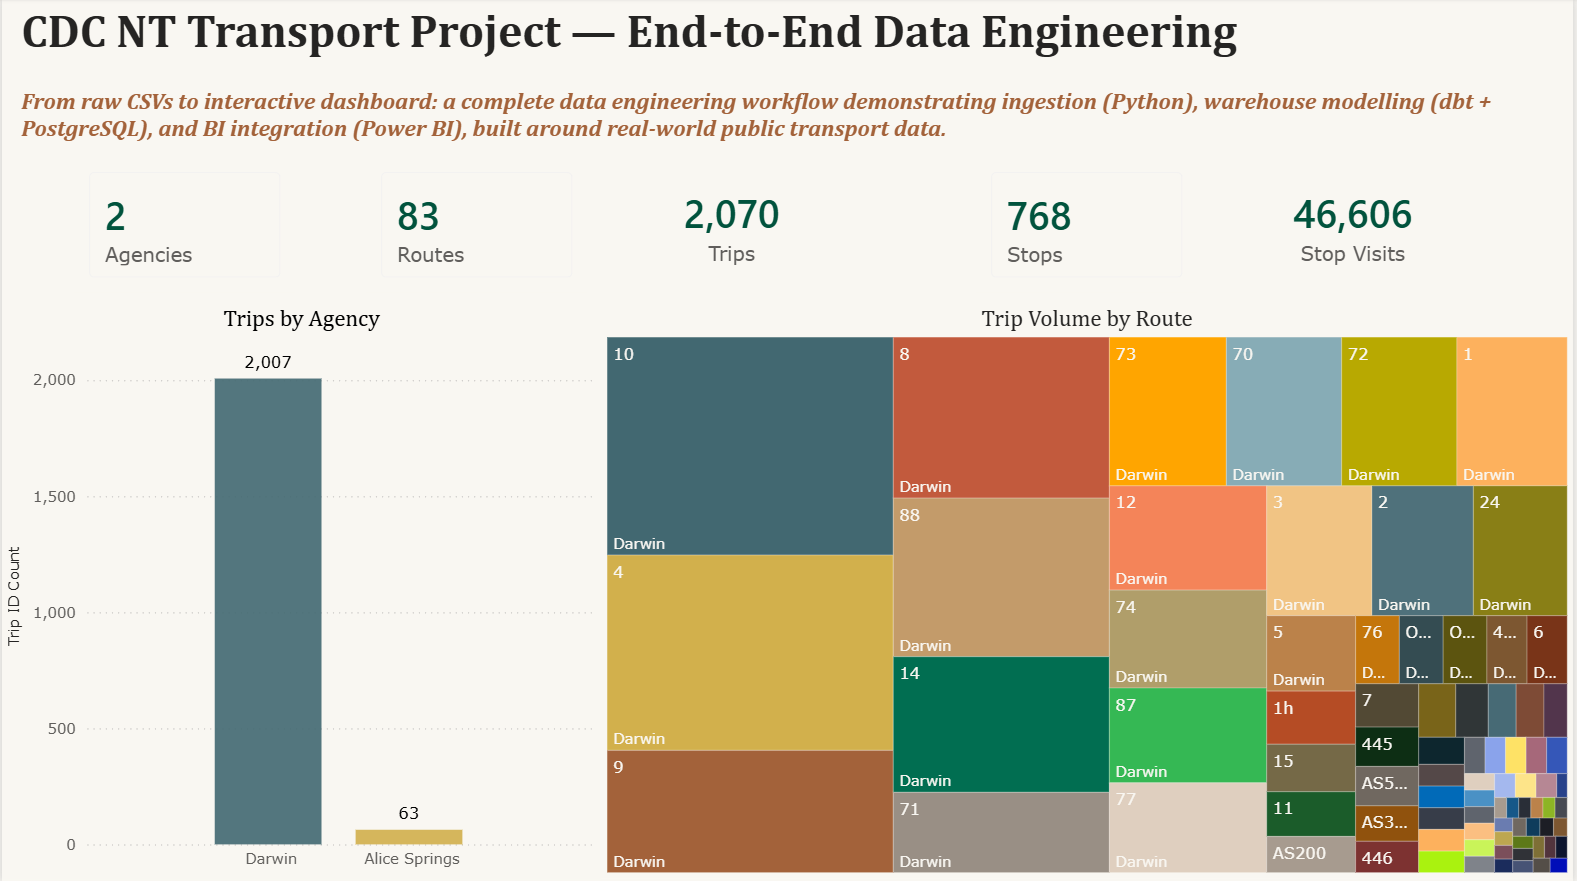

What the dashboard file says about the page in this screenshot:
{"tool":"powerbi","page":{"name":"Overview","canvas":[1280,720],"ordinal":0},"visuals":[{"type":"textbox","box":[10.4,0,1269.6,70],"z":0},{"type":"textbox","box":[10.3,68,1269.7,57.7],"z":1000},{"type":"cardVisual","fields":{"Data":["CountNonNull(wh_cdc_nt dim_routes.route_id)"]},"box":[286.7,120,200,130],"z":2000},{"type":"card","fields":{"Values":["CountNonNull(wh_cdc_nt dim_trips.trip_id)"]},"box":[494.4,120,200,130.3],"z":3000},{"type":"cardVisual","fields":{"Data":["CountNonNull(wh_cdc_nt dim_stops.stop_id)"]},"box":[783.5,120,200.4,130.3],"z":4000},{"type":"card","fields":{"Values":["CountNonNull(wh_cdc_nt fact_stop_times.stop_time_key)"]},"box":[1000,120,200,130],"z":5000},{"type":"cardVisual","title":"Agency ID Count","fields":{"Data":["CountNonNull(wh_cdc_nt dim_agency.agency_display_name)"]},"box":[49.1,120,200,130],"z":6000},{"type":"clusteredColumnChart","title":"Trips by Agency","fields":{"Y":["CountNonNull(wh_cdc_nt fact_trips.trip_id)"],"Category":["wh_cdc_nt dim_agency.agency_display_name"]},"box":[0,249.6,488.1,469.1],"z":7000},{"type":"treemap","title":"Trip Volume by Route","fields":{"Group":["wh_cdc_nt dim_routes.route_short_name"],"Values":["CountNonNull(wh_cdc_nt fact_trips.trip_id)"],"Details":["wh_cdc_nt dim_agency.agency_display_name"]},"box":[488.1,249.6,791.9,468.3],"z":8000}]}

Visuals, with their boxes in screenshot pixels (x1, y1, x2, y2), scaled from the page's 1280x720 canvas onto the 1577x881 screenshot:
textbox: <box>13,0,1576,86</box>
textbox: <box>13,83,1576,154</box>
cardVisual - CountNonNull(wh_cdc_nt dim_routes.route_id): <box>353,147,600,306</box>
card - CountNonNull(wh_cdc_nt dim_trips.trip_id): <box>609,147,856,306</box>
cardVisual - CountNonNull(wh_cdc_nt dim_stops.stop_id): <box>965,147,1212,306</box>
card - CountNonNull(wh_cdc_nt fact_stop_times.stop_time_key): <box>1232,147,1478,306</box>
"Agency ID Count" cardVisual: <box>60,147,307,306</box>
"Trips by Agency" clusteredColumnChart: <box>0,305,601,879</box>
"Trip Volume by Route" treemap: <box>601,305,1576,878</box>
